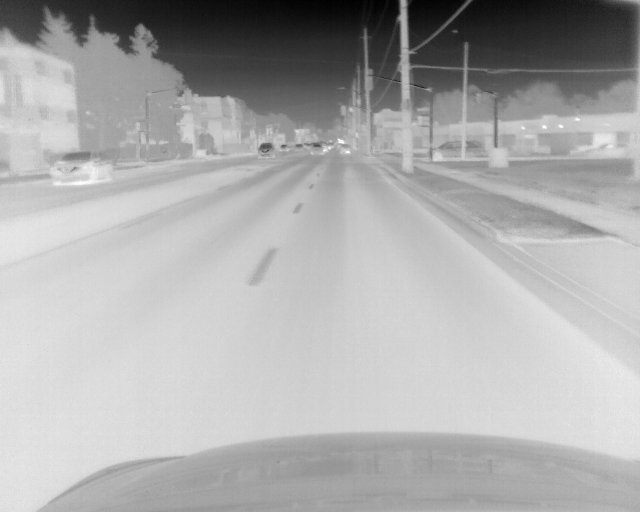car: (50, 150, 114, 185), (432, 140, 487, 159), (257, 142, 276, 158), (309, 143, 323, 156), (338, 142, 351, 155), (323, 141, 335, 149), (279, 143, 288, 153), (293, 143, 303, 152)
